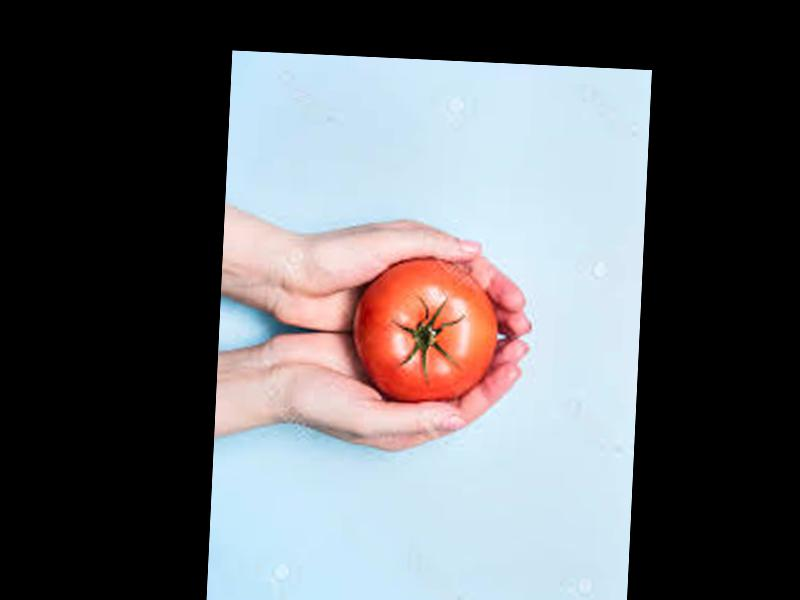Tomato: (351, 255, 500, 409)
